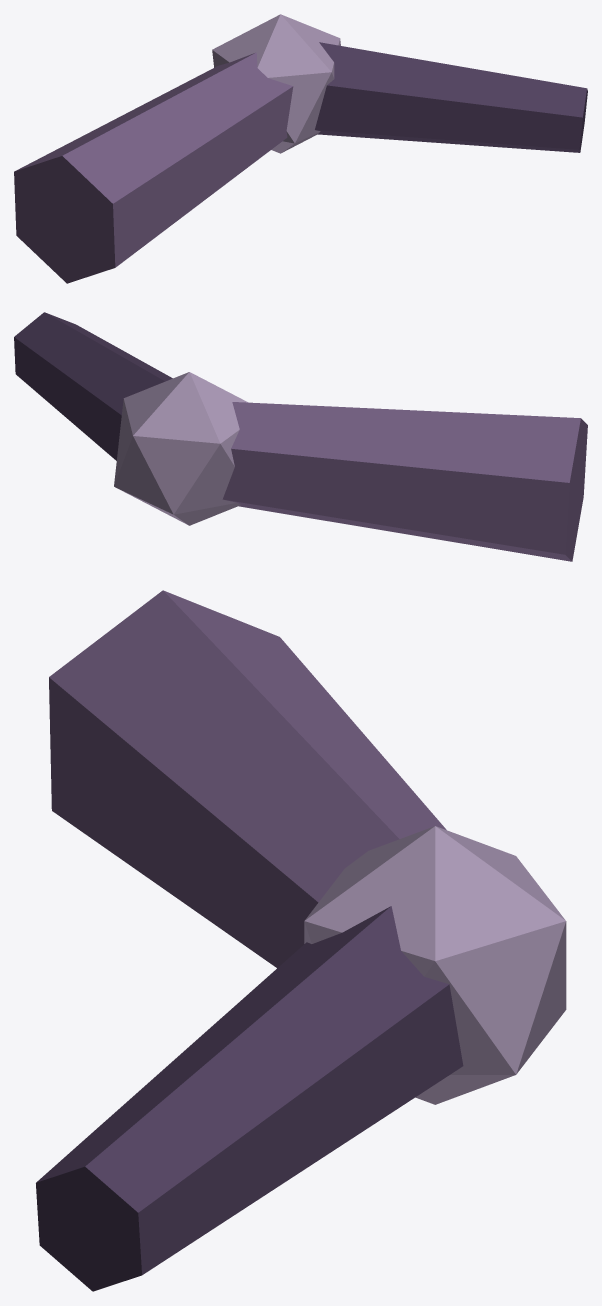
The model's file is enemy_crawler_fragment_leg.glb.
3 renders of one model, top to bottom at view 1: azimuth 30°, elevation 25°; view 2: azimuth 150°, elevation 25°; view 3: azimuth 270°, elevation 25°, orthographic. The views are drawn at different scales.
Parts seen in each view (by area): view 1: Fragment_Leg_Upper, Fragment_Leg_Lower, Fragment_Leg_Knee; view 2: Fragment_Leg_Upper, Fragment_Leg_Knee, Fragment_Leg_Lower; view 3: Fragment_Leg_Upper, Fragment_Leg_Lower, Fragment_Leg_Knee.
Part boxes in pixels (x1,y1,x2,y2): Fragment_Leg_Upper: [14, 52, 293, 283]; Fragment_Leg_Lower: [315, 42, 587, 152]; Fragment_Leg_Knee: [212, 14, 340, 153]; Fragment_Leg_Upper: [222, 402, 587, 561]; Fragment_Leg_Knee: [114, 372, 248, 525]; Fragment_Leg_Lower: [14, 312, 172, 460]; Fragment_Leg_Upper: [49, 590, 446, 967]; Fragment_Leg_Lower: [36, 906, 463, 1291]; Fragment_Leg_Knee: [304, 826, 566, 1104].
Size of the model in its own units: 0.3233 by 0.0874 by 0.1378.
